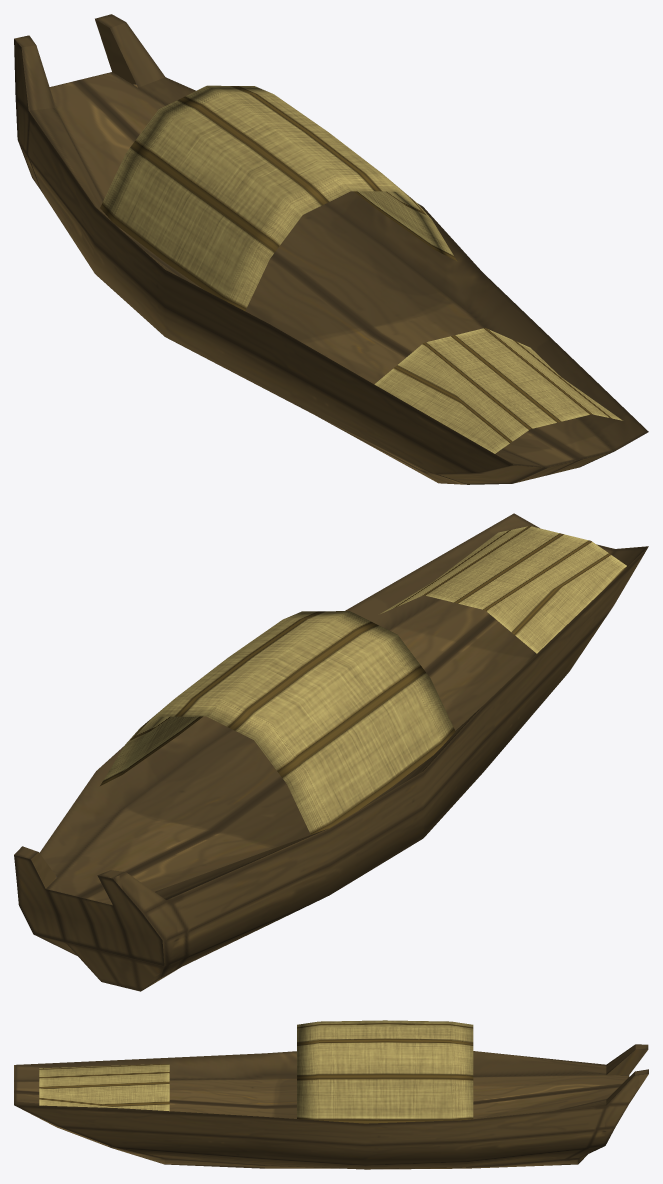
Rendered from Boat1.fbx.
3 views of the same model, one above another, from view 1: azimuth 30°, elevation 25°; view 2: azimuth 150°, elevation 25°; view 3: azimuth 270°, elevation 25° (orthographic). The views are drawn at different scales.
Visible parts, largest first — view 1: Boat1; view 2: Boat1; view 3: Boat1.
Boxes of the visible parts, left/top/right/bottom form: Boat1: left=14, top=14, right=648, bottom=484; Boat1: left=14, top=513, right=648, bottom=991; Boat1: left=14, top=1020, right=648, bottom=1169.
Bounding box in the file's own units: 2.06 × 1.64 × 7.17.
